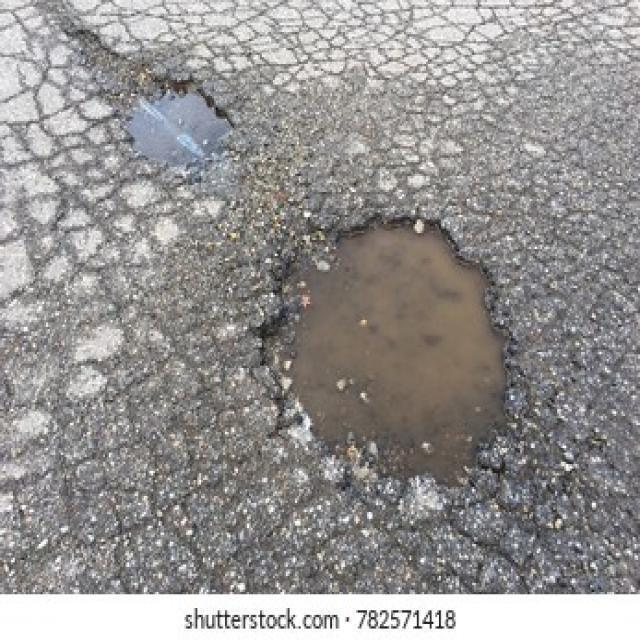Buraco: (246, 208, 532, 494), (58, 24, 243, 192)
